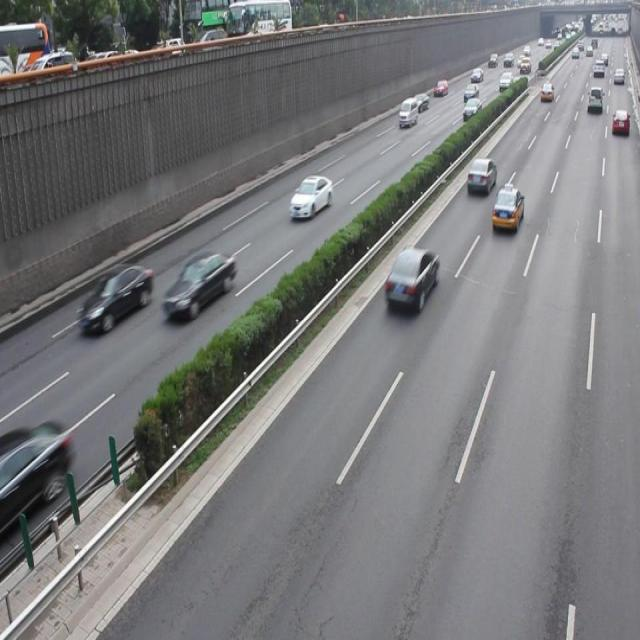car: (1, 421, 69, 542), (79, 263, 152, 336), (161, 250, 236, 320), (383, 246, 438, 313), (288, 174, 333, 220), (490, 188, 522, 234), (465, 158, 496, 195)
